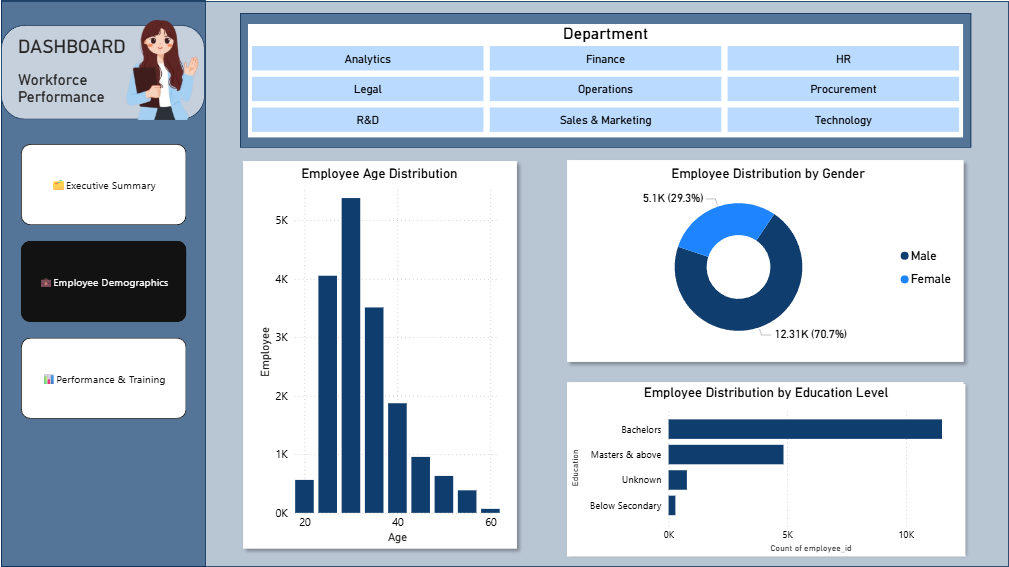

What the dashboard file says about the page in this screenshot:
{"tool":"powerbi","page":{"name":"💼Employee Demographics","canvas":[1280,720],"ordinal":1},"visuals":[{"type":"shape","box":[0,1.2,1280,718.8],"z":0},{"type":"shape","box":[302.9,16.7,928.6,171.4],"z":1000},{"type":"shape","box":[0,0,260,720],"z":2000},{"type":"shape","box":[298.6,195.7,365.7,510],"z":3000},{"type":"shape","box":[710,194.3,521.4,274.3],"z":4000},{"type":"columnChart","title":"Employee Age Distribution","fields":{"Category":["Cleaned.age (bins)"],"Y":["CountNonNull(Cleaned.employee_id)"]},"box":[322.9,210,315.7,485.7],"z":5000},{"type":"shape","box":[710,475.7,521.4,234.3],"z":6000},{"type":"clusteredBarChart","title":"Employee Distribution by Education Level","fields":{"Category":["Cleaned.education"],"Y":["CountNonNull(Cleaned.employee_id)"]},"box":[718.6,487.1,505.7,218.6],"z":7000},{"type":"donutChart","fields":{"Category":["Cleaned.gender"],"Y":["CountNonNull(Cleaned.employee_id)"]},"box":[727.1,210,492.9,240],"z":8000},{"type":"advancedSlicerVisual","title":"Department","fields":{"Values":["Cleaned.department"]},"box":[313.9,30.6,908.3,144.4],"z":9000},{"type":"pageNavigator","box":[25,183.3,210,351.7],"z":10000},{"type":"shape","box":[0,32.2,258.9,120],"z":11000},{"type":"image","box":[122.9,5.7,158.6,151.4],"z":12000},{"type":"textbox","box":[16.7,40,184.4,106.7],"z":13000}]}

Visuals, with their boxes in screenshot pixels (x1, y1, x2, y2), scaled from the page's 1280x720 canvas onto the 1009x567 screenshot:
shape: 0:1:1008:566
shape: 239:13:971:148
shape: 0:0:205:566
shape: 235:154:524:556
shape: 560:153:971:369
"Employee Age Distribution" columnChart: 255:165:503:548
shape: 560:375:971:559
"Employee Distribution by Education Level" clusteredBarChart: 566:384:965:556
donutChart - Cleaned.gender x CountNonNull(Cleaned.employee_id): 573:165:962:354
"Department" advancedSlicerVisual: 247:24:963:138
pageNavigator: 20:144:185:421
shape: 0:25:204:120
image: 97:4:222:124
textbox: 13:32:159:116
